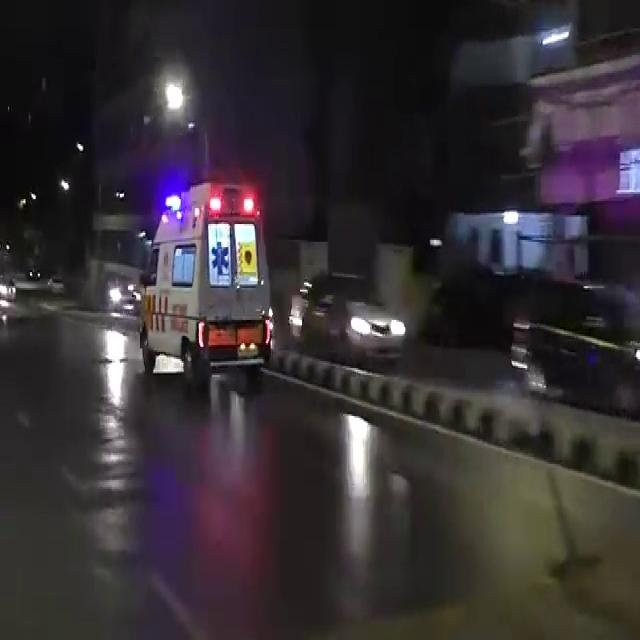ambulance: (137, 178, 277, 396)
